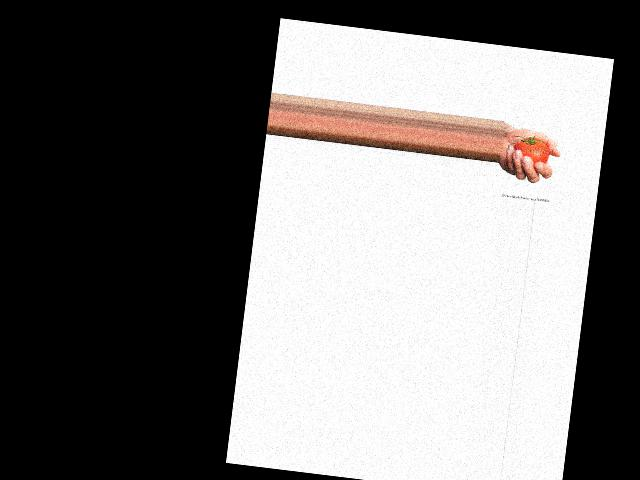tomato: (512, 135, 551, 164)
